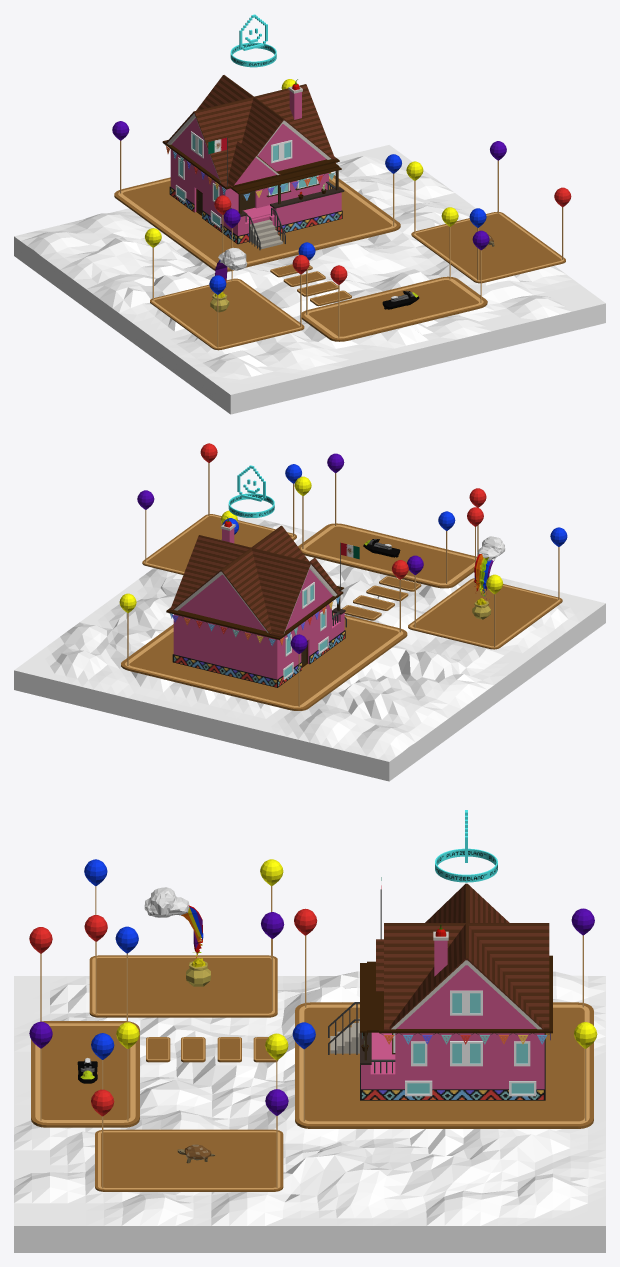
3 renders of one model, top to bottom at view 1: azimuth 30°, elevation 25°; view 2: azimuth 150°, elevation 25°; view 3: azimuth 270°, elevation 25°, orthographic. The views are drawn at different scales.
Visible parts, largest first — view 1: Cube.013, Cube.1005, OBJRANDOM_RAINBOW, TYPE_PREMIUM; view 2: Cube.013, Cube.1005, OBJRANDOM_RAINBOW, TYPE_PREMIUM; view 3: Cube.013, Cube.1005, OBJRANDOM_RAINBOW, TYPE_PREMIUM.
Part boxes in pixels (x1,y1,x2,y2): Cube.013: (14,79,605,414); Cube.1005: (162,75,344,250); OBJRANDOM_RAINBOW: (210,247,247,312); TYPE_PREMIUM: (230,14,276,67); Cube.013: (14,443,605,781); Cube.1005: (166,516,359,687); OBJRANDOM_RAINBOW: (472,536,505,619); TYPE_PREMIUM: (228,465,274,517); Cube.013: (14,859,605,1252); Cube.1005: (328,877,552,1100); OBJRANDOM_RAINBOW: (144,887,210,986); TYPE_PREMIUM: (435,810,497,882).
Bounding box in the file's own units: 4000 × 2451 × 4000.
72 materials, 4 textured.
